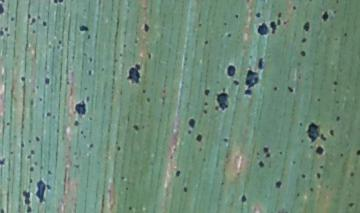tarspot: (241, 66, 258, 96), (125, 62, 144, 85), (35, 177, 50, 206), (216, 88, 232, 111), (73, 98, 89, 120), (307, 119, 321, 144), (225, 61, 239, 80), (255, 20, 270, 36), (20, 187, 32, 206), (76, 22, 91, 34), (283, 83, 298, 95), (318, 9, 330, 23), (301, 19, 312, 34), (269, 18, 278, 36), (314, 143, 325, 157), (187, 115, 197, 130), (195, 130, 205, 145), (298, 48, 311, 59), (344, 200, 357, 211), (255, 56, 265, 70), (273, 177, 283, 191), (41, 75, 52, 87), (141, 21, 152, 33), (200, 87, 214, 96), (331, 76, 340, 90), (332, 114, 343, 125), (130, 122, 141, 133), (238, 192, 248, 204), (325, 128, 337, 138), (253, 8, 263, 20), (260, 144, 271, 154), (32, 133, 41, 145), (314, 170, 323, 182), (173, 167, 182, 178), (182, 183, 189, 196), (1, 156, 8, 169), (300, 34, 309, 44), (1, 3, 7, 18), (290, 3, 299, 13), (27, 164, 36, 174), (19, 74, 27, 85), (257, 158, 265, 169), (354, 145, 360, 159), (40, 19, 49, 28), (30, 15, 37, 26), (300, 172, 308, 181), (24, 9, 31, 19), (1, 27, 5, 40)
